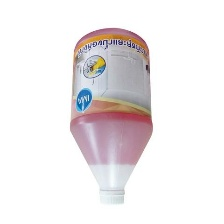cleaning_solution: (67, 24, 154, 207)
